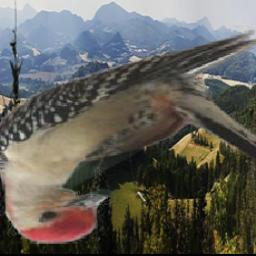Woodpecker: (0, 25, 256, 244)
